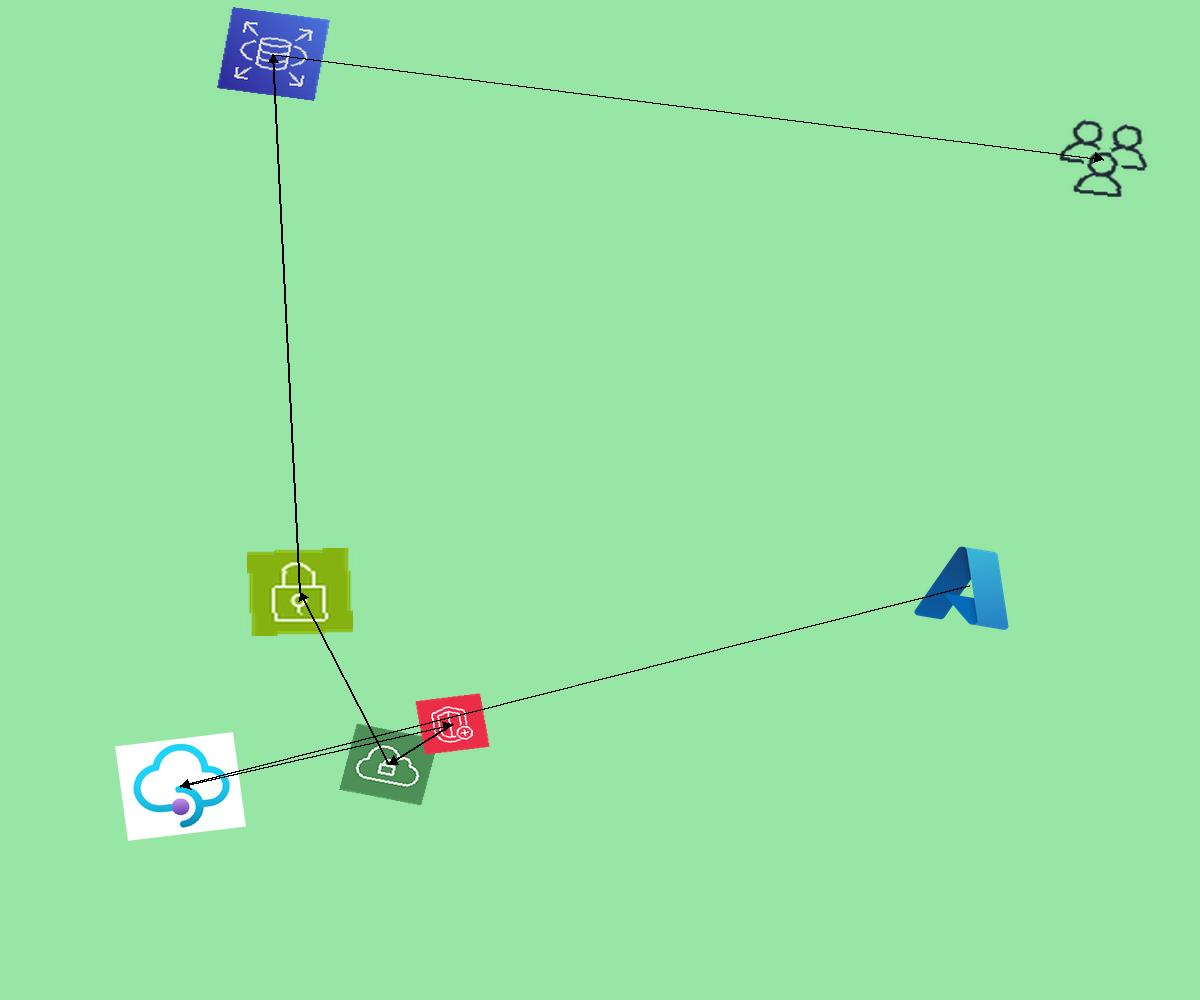AWS-Private_vpc: (339, 723, 439, 806)
AWS-Public-subnet: (247, 548, 353, 636)
AWS-RDS: (217, 7, 330, 101)
AWS-Res_Users: (1048, 113, 1159, 205)
AWS-Shield: (415, 693, 490, 755)
Azure_api_gateway: (115, 732, 246, 841)
Azure_services: (908, 535, 1031, 637)
